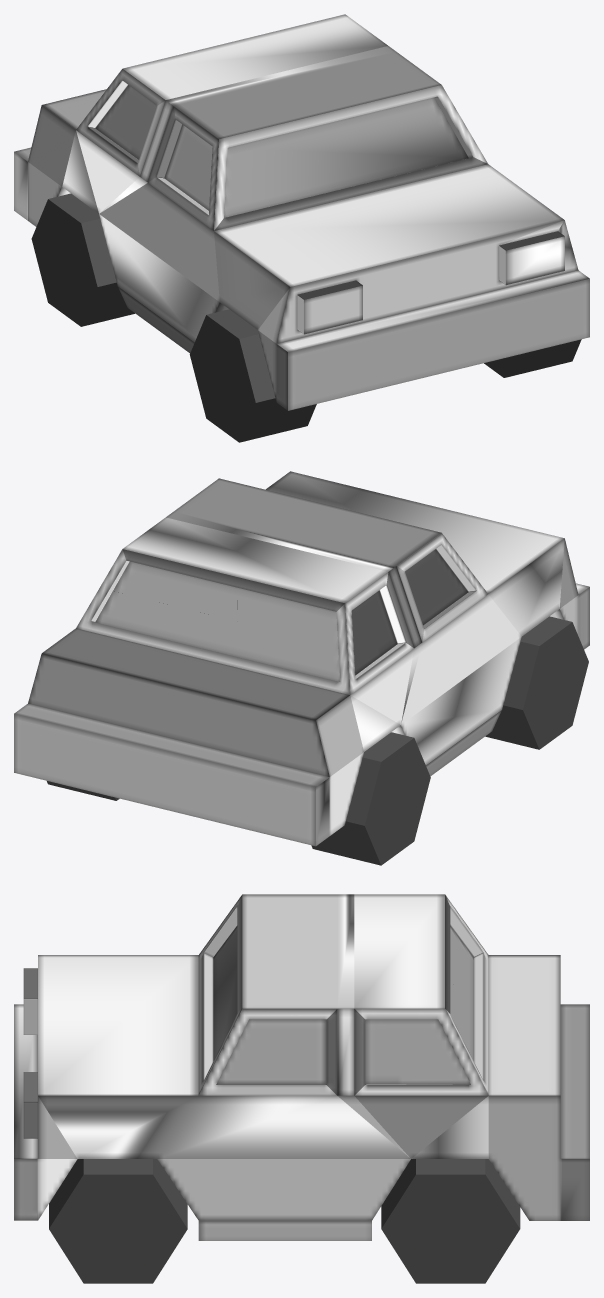
The model's file is Car-02.fbx.
The picture shows the model from 3 angles, top to bottom: view 1: azimuth 30°, elevation 25°; view 2: azimuth 150°, elevation 25°; view 3: azimuth 270°, elevation 25°; orthographic projection. The views are drawn at different scales.
Visible parts, largest first — view 1: Car_02, Car_02_Wheel_FL, Car_02_Wheel_BL, Car_02_Wheel_FR; view 2: Car_02, Car_02_Wheel_BL, Car_02_Wheel_FL; view 3: Car_02, Car_02_Wheel_FR, Car_02_Wheel_BR.
Boxes of the visible parts, x1,y1,x2,y2 form: Car_02: [14, 14, 589, 410]; Car_02_Wheel_FL: [189, 309, 316, 442]; Car_02_Wheel_BL: [31, 193, 134, 326]; Car_02_Wheel_FR: [484, 339, 581, 377]; Car_02: [14, 471, 589, 846]; Car_02_Wheel_BL: [311, 732, 430, 865]; Car_02_Wheel_FL: [485, 616, 588, 749]; Car_02: [14, 894, 589, 1240]; Car_02_Wheel_FR: [49, 1159, 187, 1283]; Car_02_Wheel_BR: [381, 1159, 520, 1283].
Size of the model in its own units: 0.5653 by 0.3805 by 0.8053.
